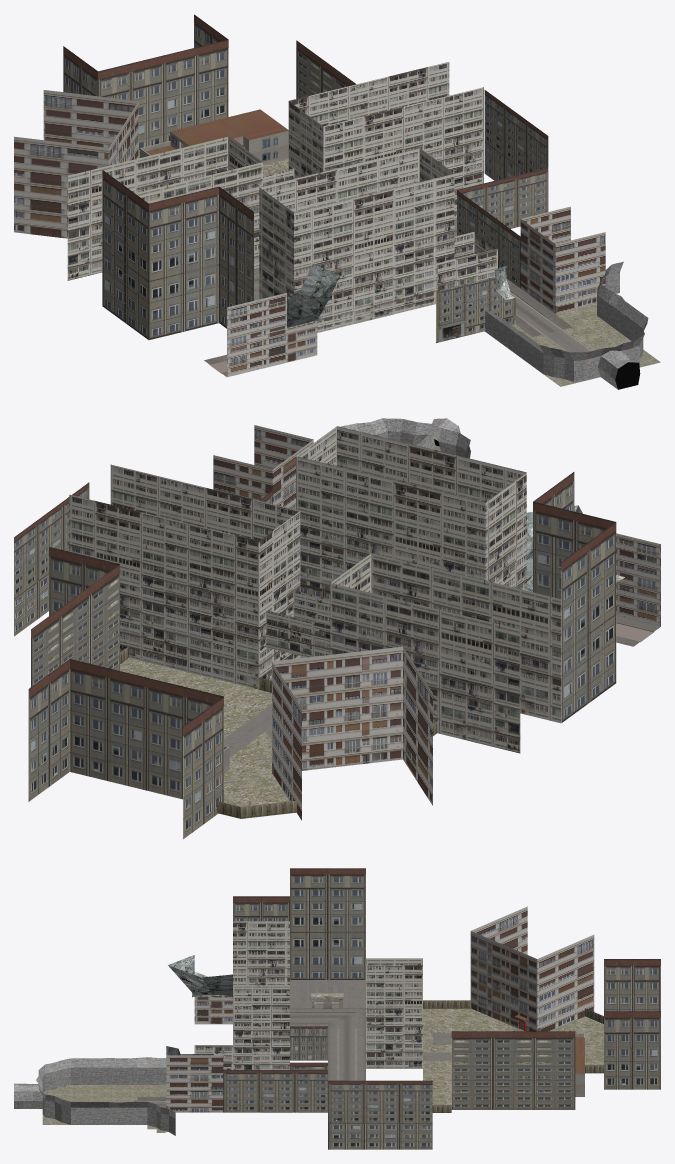
Rendered from ExampleLevel.glb.
The picture shows the model from 3 angles, top to bottom: view 1: azimuth 30°, elevation 25°; view 2: azimuth 150°, elevation 25°; view 3: azimuth 270°, elevation 25°; orthographic projection. The views are drawn at different scales.
Parts seen in each view (by area): view 1: Cube.001-col, building08-col.001, building07-col, building09-col, building08-col, building10-col, building01-col.001, cliffs-col, building01-col, building04-col, building05-col, house1-col (+5 smaller); view 2: building07-col, building08-col, Cube.001-col, building10-col, building09-col, building08-col.001, building11-col, grass-col, building01-col, building05-col, building01-col.001, building-07-08-col (+3 smaller); view 3: building09-col, building08-col.001, building11-col, Cube.001-col, building10-col, building05-col, cliffs-col, building07-col, road-col, grass-col, building04-col, building01-col (+8 smaller).
Part boxes in pixels (x1,y1,x2,y2): Cube.001-col: (259, 148, 454, 332); building08-col.001: (102, 170, 253, 339); building07-col: (288, 62, 483, 219); building09-col: (14, 90, 138, 238); building08-col: (67, 136, 262, 280); building10-col: (63, 14, 228, 155); building01-col.001: (227, 264, 339, 377); cliffs-col: (480, 261, 648, 389); building01-col: (520, 206, 605, 313); building04-col: (457, 168, 548, 288); building05-col: (484, 90, 548, 180); house1-col: (140, 109, 288, 165); building07-col: (69, 464, 300, 689); building08-col: (330, 553, 561, 753); Cube.001-col: (296, 426, 526, 590); building10-col: (28, 659, 223, 839); building09-col: (272, 646, 432, 820); building08-col.001: (533, 472, 616, 722); building11-col: (31, 547, 119, 686); grass-col: (120, 658, 296, 818); building01-col: (213, 425, 313, 509); building05-col: (14, 482, 89, 636); building01-col.001: (526, 505, 660, 626); building-07-08-col: (266, 590, 330, 657); building09-col: (470, 906, 594, 1031); building08-col.001: (233, 868, 365, 979); building11-col: (451, 1031, 575, 1109); Cube.001-col: (233, 921, 289, 1069); building10-col: (604, 959, 660, 1089); building05-col: (328, 1080, 432, 1149); cliffs-col: (14, 1057, 175, 1135); building07-col: (366, 965, 422, 1068); road-col: (68, 980, 365, 1107); grass-col: (423, 1008, 603, 1104); building04-col: (223, 1070, 327, 1112); building01-col: (166, 1055, 223, 1112).
Bounding box in the file's own units: 421 × 133 × 680.
Materials: 18 (16 with a texture image).
